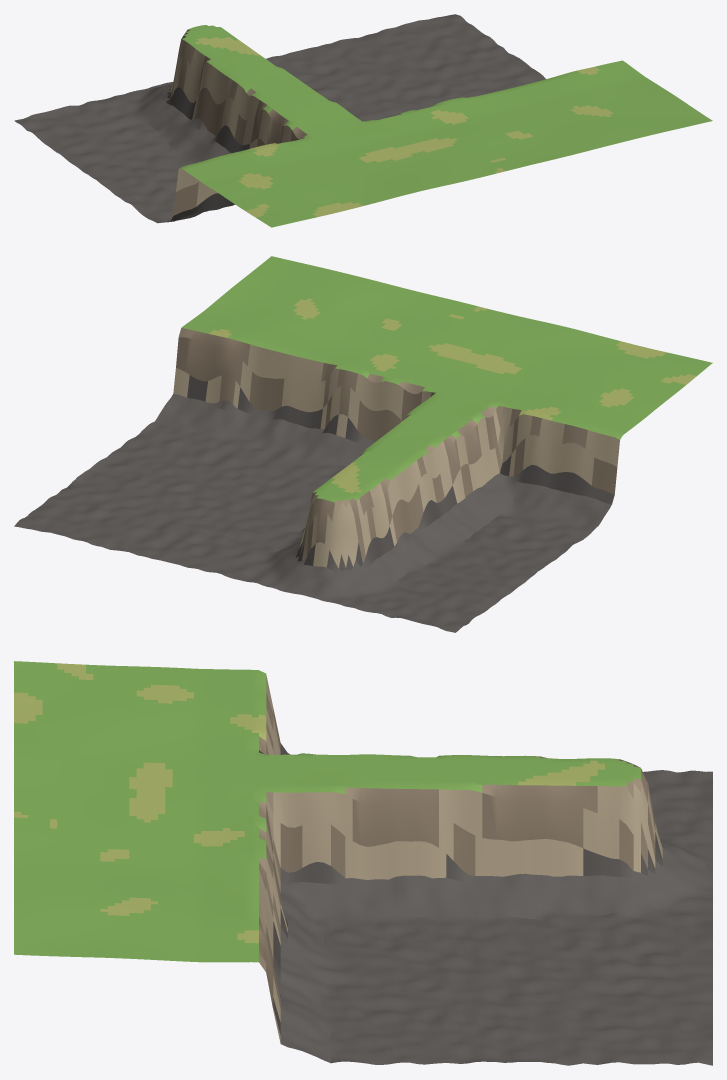
Rendered from cliff_top.glb.
3 renders of one model, top to bottom at view 1: azimuth 30°, elevation 25°; view 2: azimuth 150°, elevation 25°; view 3: azimuth 270°, elevation 25°, orthographic. The views are drawn at different scales.
Parts seen in each view (by area): view 1: cliff_top; view 2: cliff_top; view 3: cliff_top.
Part boxes in pixels (<box>): cliff_top: <box>14,14,712,227</box>; cliff_top: <box>14,256,712,632</box>; cliff_top: <box>14,661,712,1065</box>.
Bounding box in the file's own units: 120 × 21.57 × 121.
